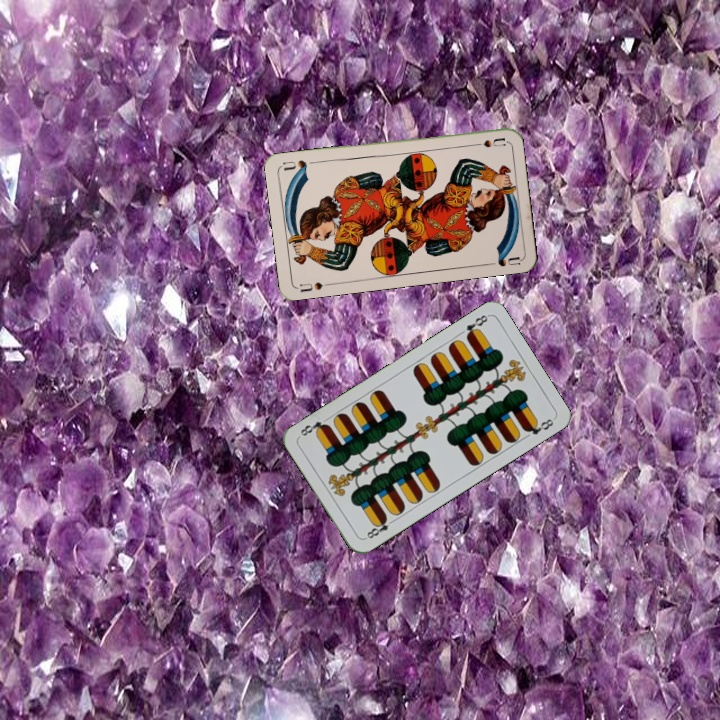E8: (361, 513, 397, 542), (462, 310, 491, 341)
SU: (466, 133, 507, 150), (294, 278, 334, 295)
